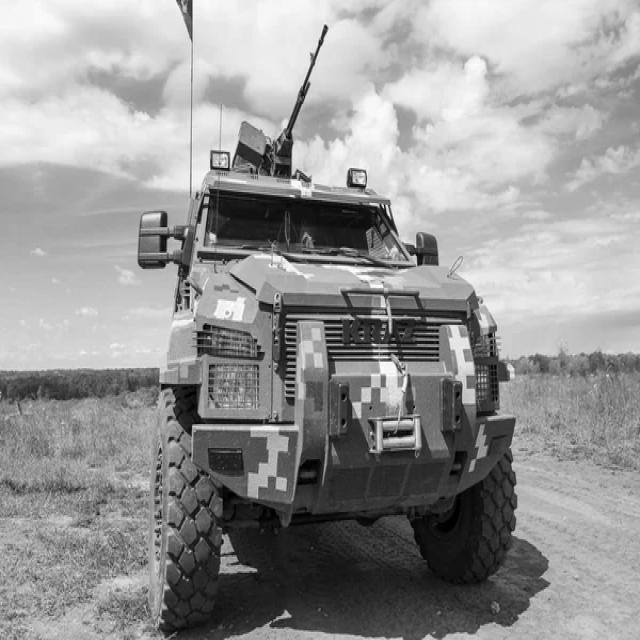Car: (138, 51, 517, 631)
